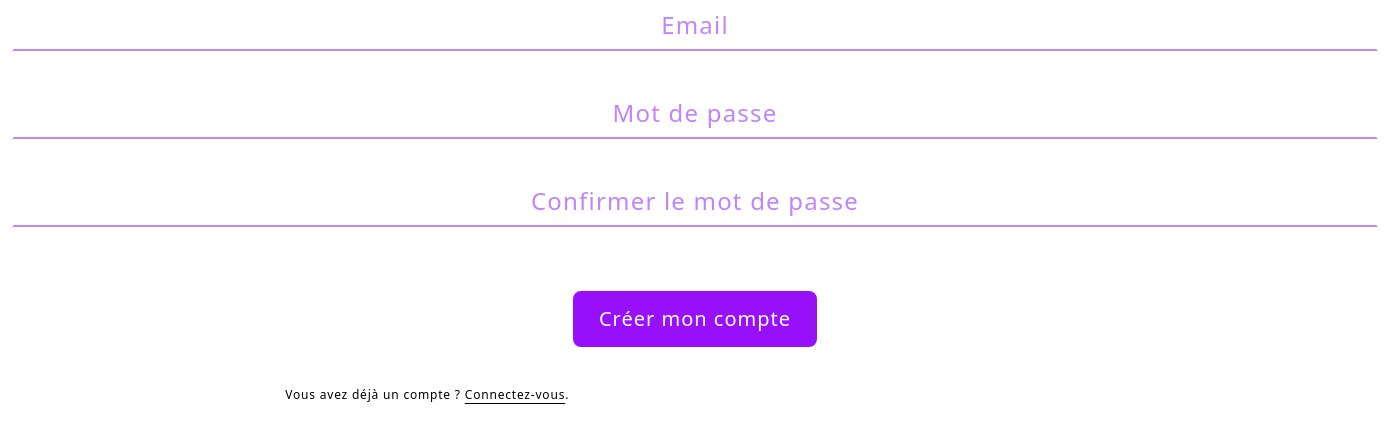
Test case: SignupForm › affiche une erreur sur chaque champ requis lors d'une soumission vide
This screenshot has width=1390, height=421.
What coordinates should you click on to do the following:
click the button "Créer mon compte"
I would click on:
 (695, 319)
Its box is [573, 291, 817, 347].
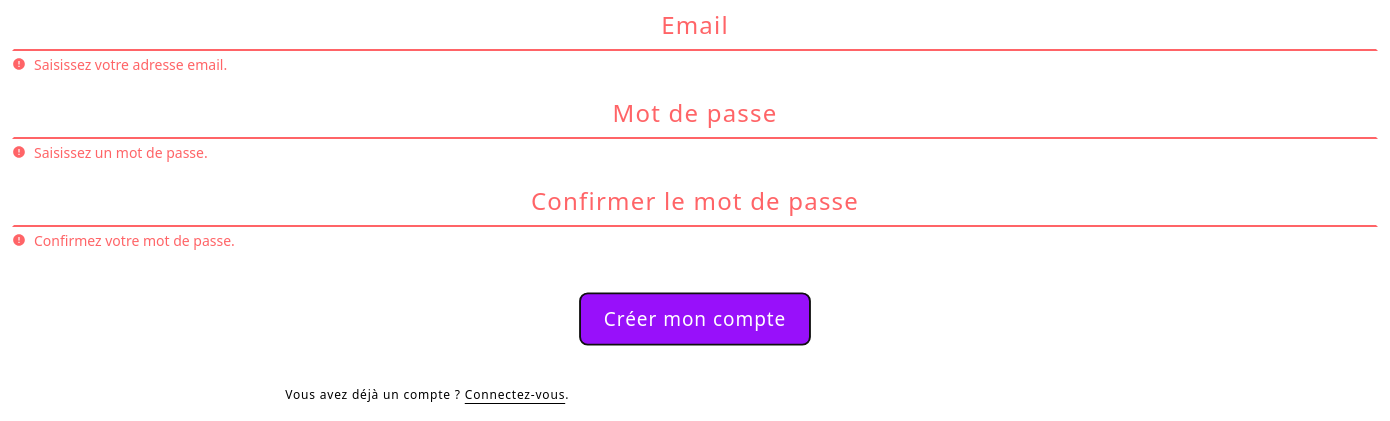
Now the text "Saisissez votre adresse email." is shown, box [34, 55, 227, 75]
Now the text "Saisissez un mot de passe." is shown, box [34, 143, 208, 163]
Now the text "Confirmez votre mot de passe." is shown, box [34, 231, 235, 251]
